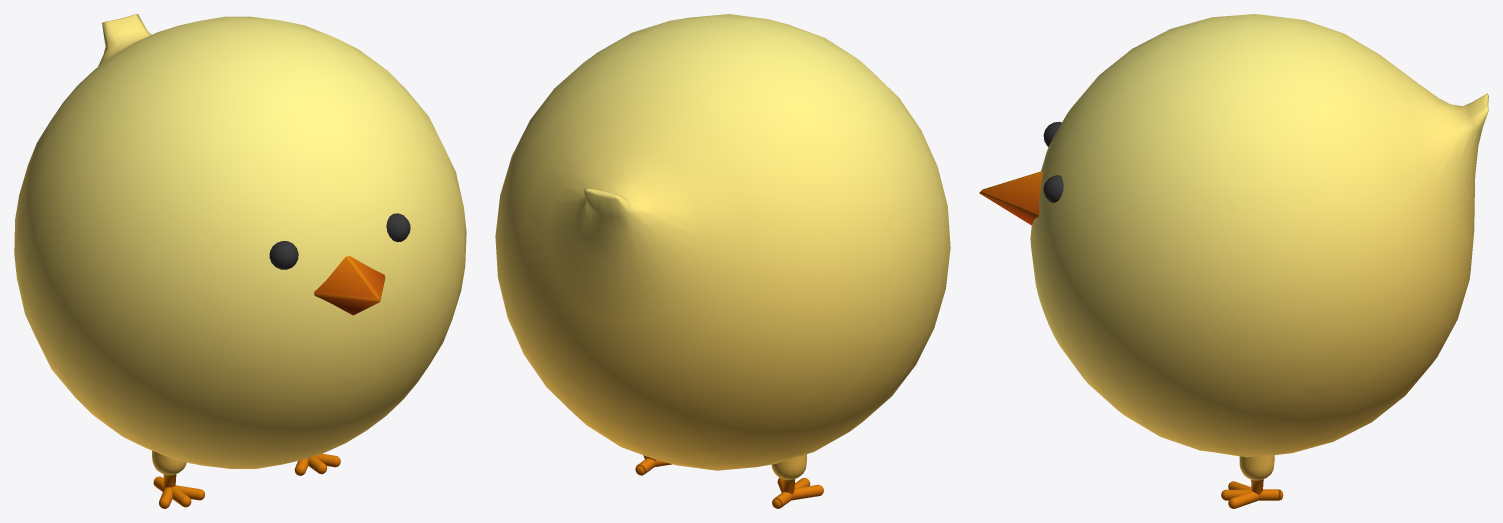
File: Chiken1.fbx
3 views of the same model, side by side, from view 1: azimuth 30°, elevation 25°; view 2: azimuth 150°, elevation 25°; view 3: azimuth 270°, elevation 25° (orthographic). The views are drawn at different scales.
Visible parts, largest first — view 1: Chiken1_LP; view 2: Chiken1_LP; view 3: Chiken1_LP.
Boxes of the visible parts, <box> form: Chiken1_LP: <box>14,14,466,508</box>; Chiken1_LP: <box>495,14,950,508</box>; Chiken1_LP: <box>979,14,1488,508</box>.
Bounding box in the file's own units: 200 × 215 × 229.
1 material, 1 textured.
